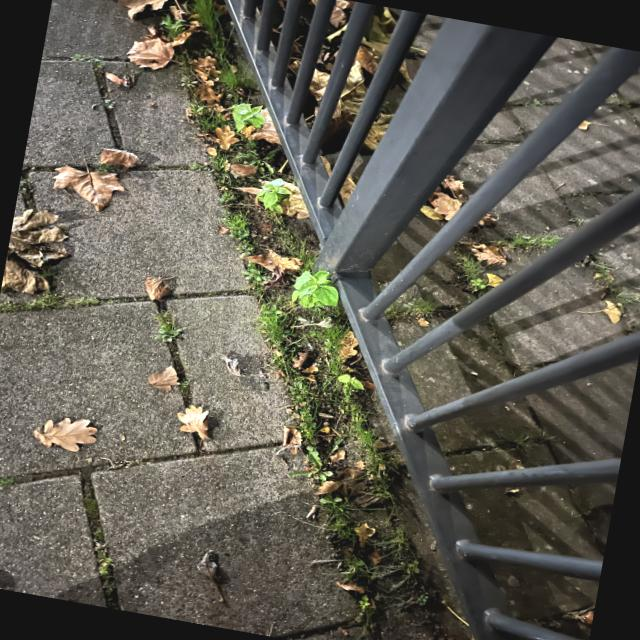leaves: (109, 26, 240, 111)
pavement: (0, 0, 368, 639)
weed: (221, 258, 453, 633)
